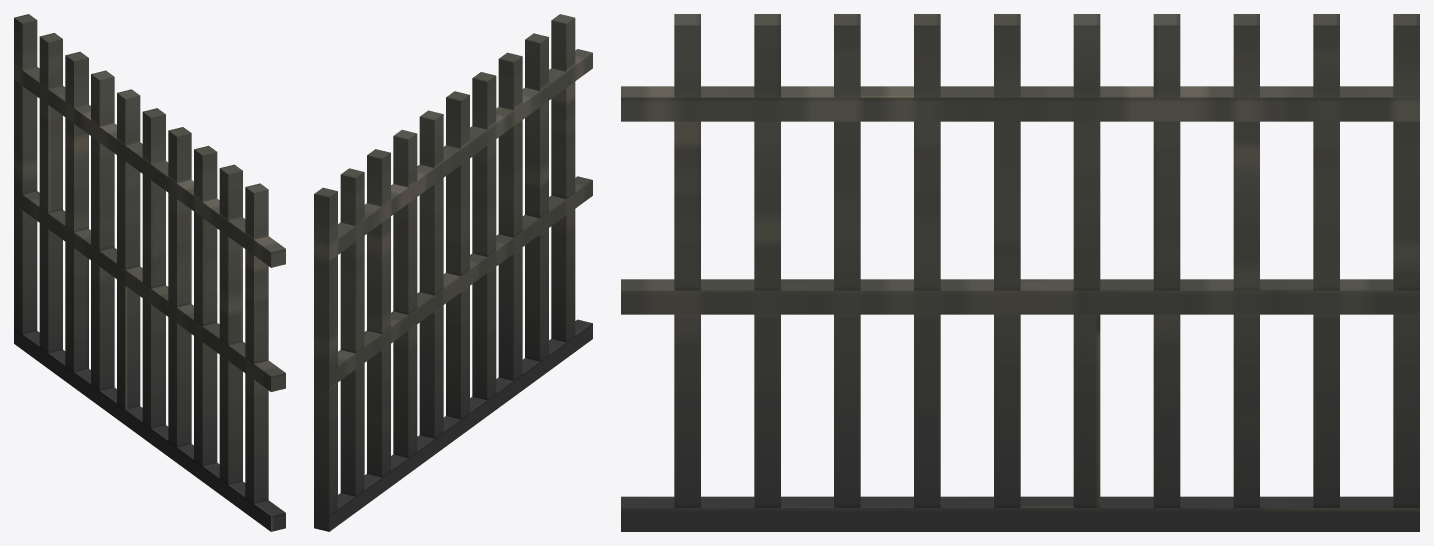
The model's file is RailA.fbx.
The picture shows the model from 3 angles, left to right: view 1: azimuth 30°, elevation 25°; view 2: azimuth 150°, elevation 25°; view 3: azimuth 270°, elevation 25°; orthographic projection. The views are drawn at different scales.
Visible parts, largest first — view 1: RailA; view 2: RailA; view 3: RailA.
Boxes of the visible parts, x1,y1,x2,y2 form: RailA: (14, 14, 285, 531); RailA: (314, 14, 592, 531); RailA: (621, 14, 1419, 531).
Size of the model in its own units: 1 by 21 by 30.
